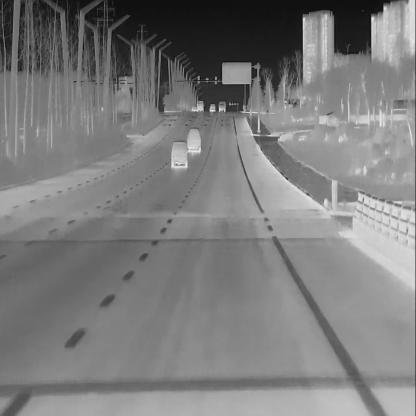car: (171, 139, 188, 166), (185, 126, 202, 152), (209, 103, 216, 113), (191, 104, 198, 112)
truck: (217, 100, 226, 113), (196, 98, 204, 112)
